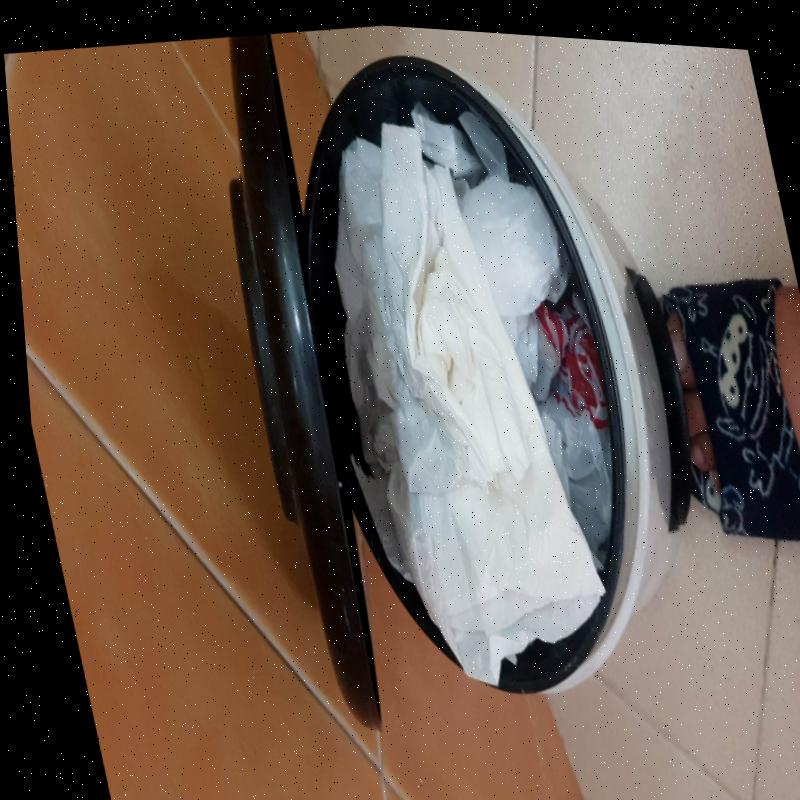paper: (335, 121, 606, 688)
plastic bag: (411, 103, 612, 555)
